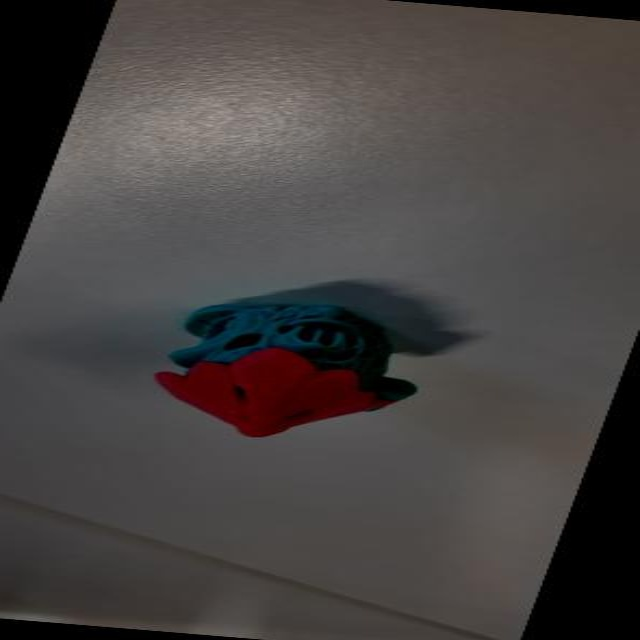House: (108, 267, 516, 468)
